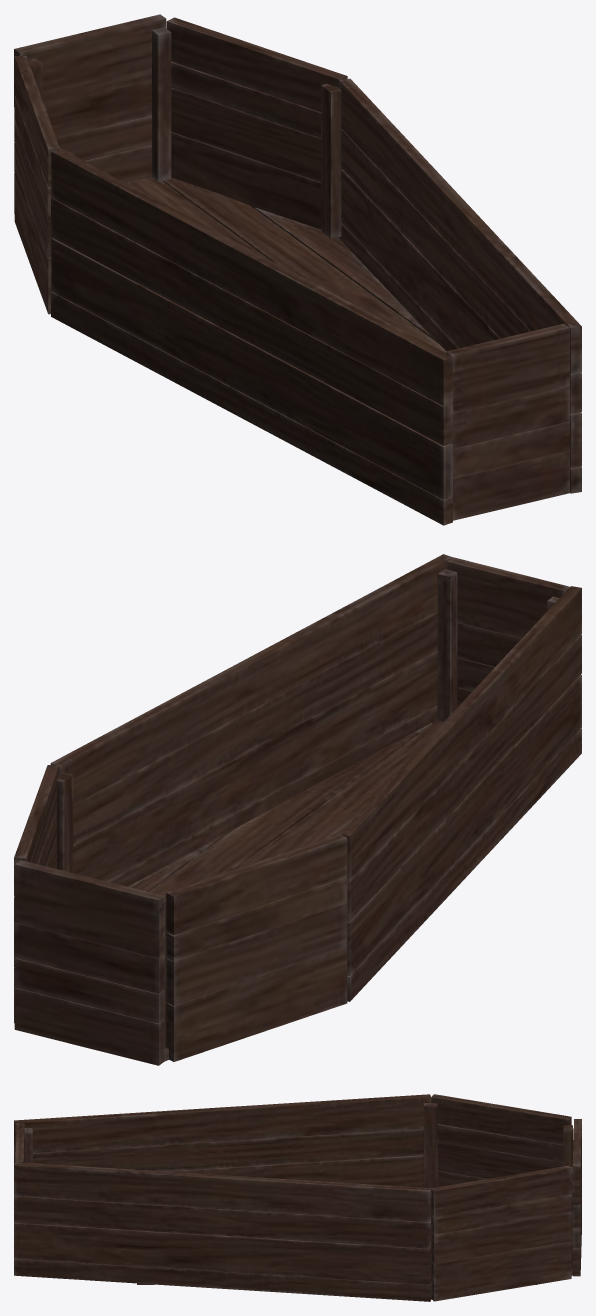
File: SM_Coffin_No_Lid.glb
3 renders of one model, top to bottom at view 1: azimuth 30°, elevation 25°; view 2: azimuth 150°, elevation 25°; view 3: azimuth 270°, elevation 25°, orthographic. The views are drawn at different scales.
Parts seen in each view (by area): view 1: SM_Coffin_No_Lid; view 2: SM_Coffin_No_Lid; view 3: SM_Coffin_No_Lid.
Boxes of the visible parts, bbox=[...] form: SM_Coffin_No_Lid: bbox=[14, 14, 581, 525]; SM_Coffin_No_Lid: bbox=[14, 554, 581, 1065]; SM_Coffin_No_Lid: bbox=[14, 1094, 581, 1301].
Bounding box in the file's own units: 0.7948 × 0.4409 × 1.96.
Materials: 1 (1 with a texture image).
